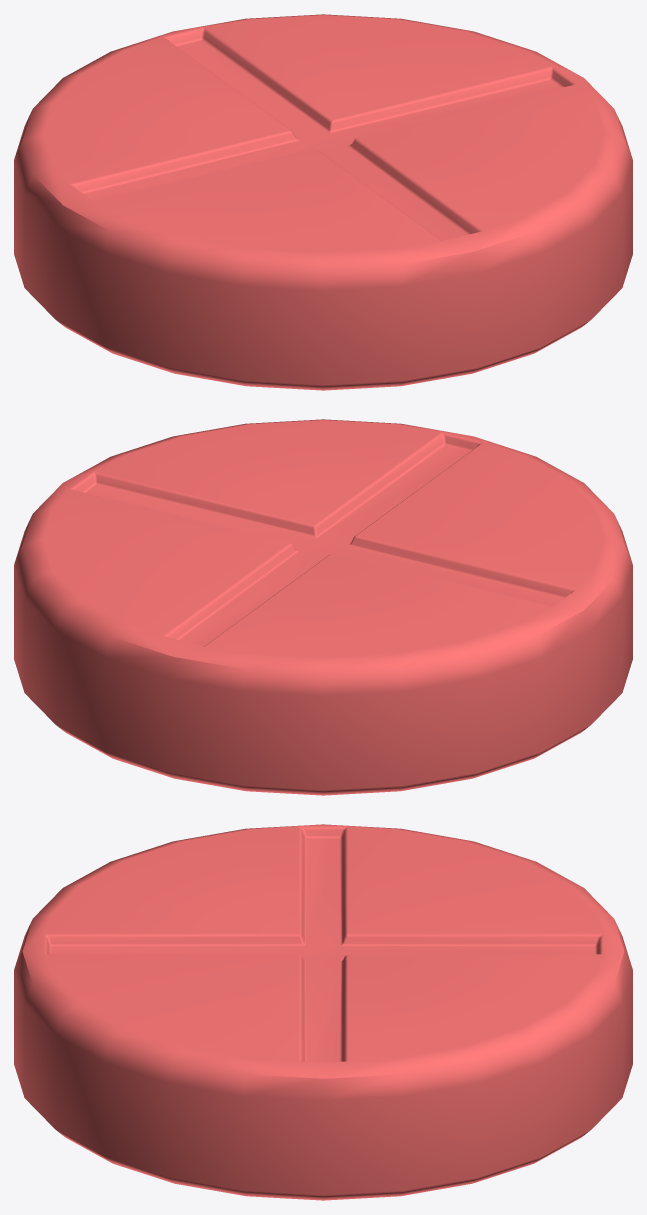
The model's file is Store_15_Pill_4.glb.
3 views of the same model, one above another, from view 1: azimuth 30°, elevation 25°; view 2: azimuth 150°, elevation 25°; view 3: azimuth 270°, elevation 25° (orthographic).
Parts seen in each view (by area): view 1: Store_15_Pill_4; view 2: Store_15_Pill_4; view 3: Store_15_Pill_4.
Boxes of the visible parts, x1,y1,x2,y2 form: Store_15_Pill_4: (14,14,632,390); Store_15_Pill_4: (14,419,632,795); Store_15_Pill_4: (14,824,632,1200).
Bounding box in the file's own units: 1.47 × 0.3425 × 1.47.
1 material, 1 textured.
